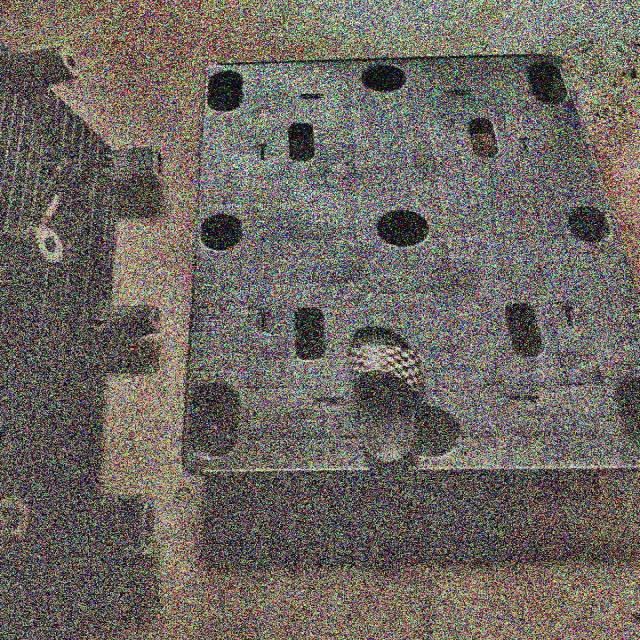non-igps: (171, 36, 640, 488), (0, 32, 177, 640)
